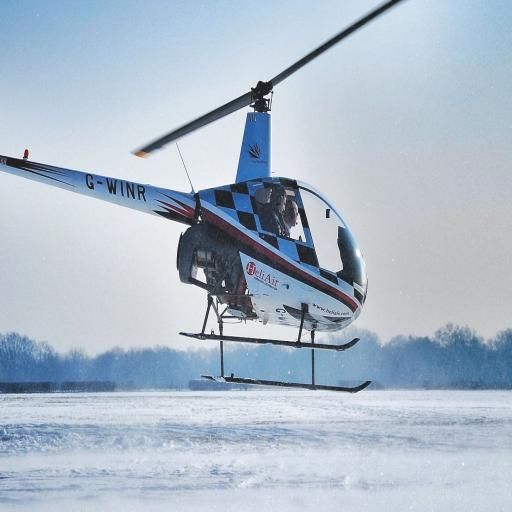helicopter: (1, 3, 400, 406)
